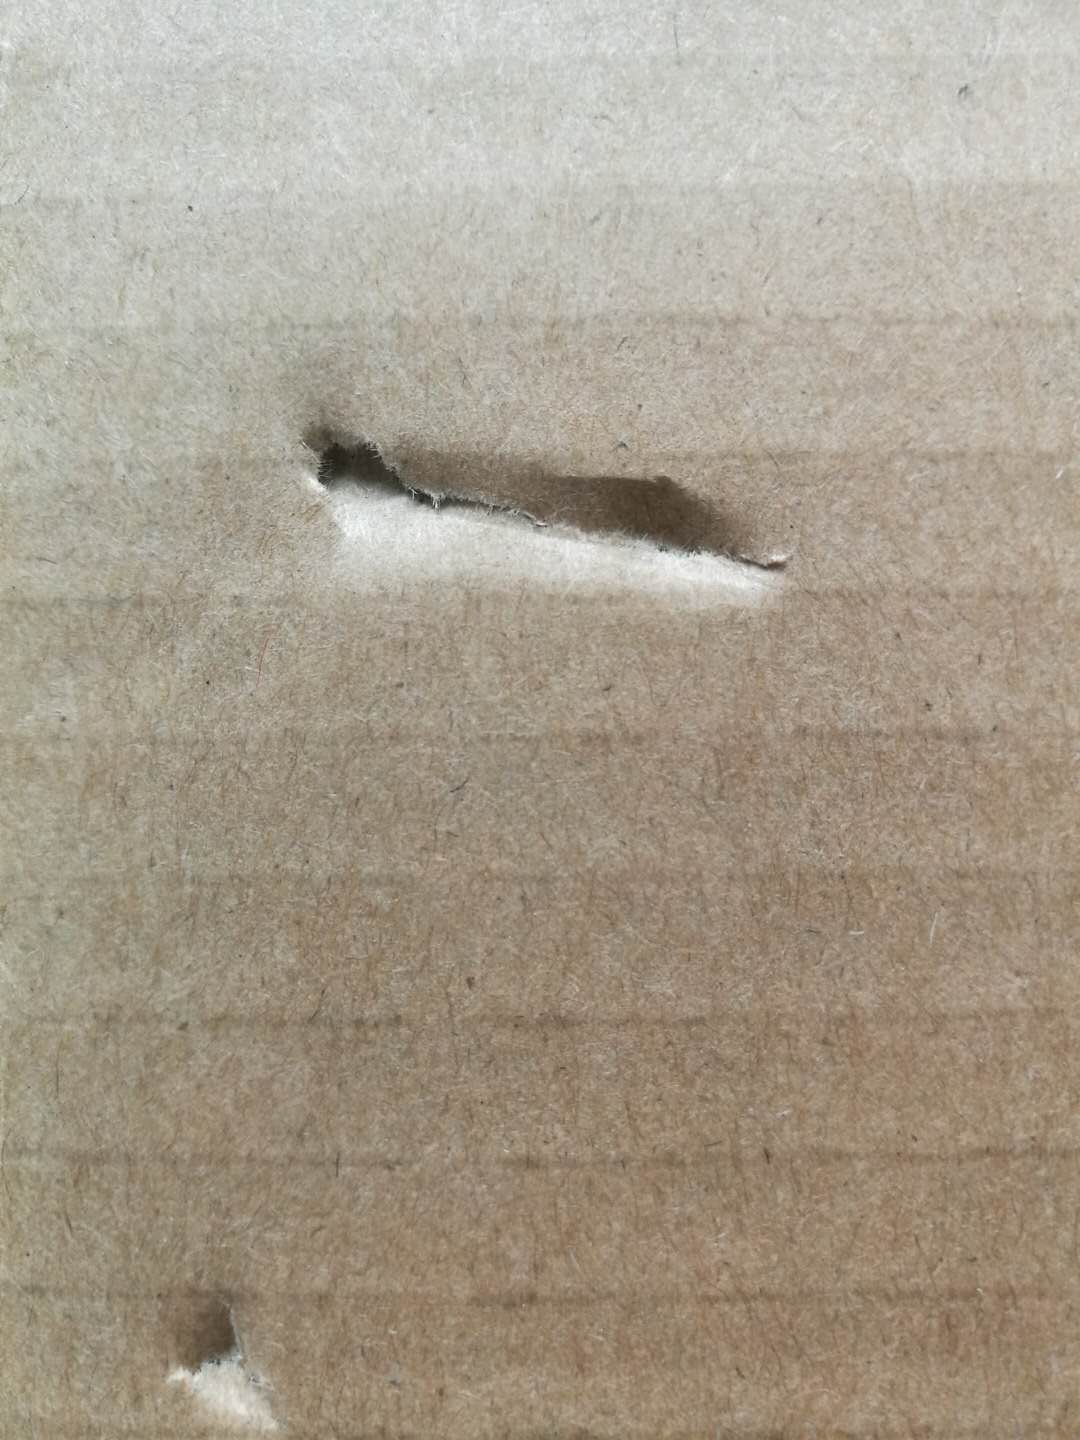defect: (222, 345, 851, 645), (126, 1253, 344, 1440)
